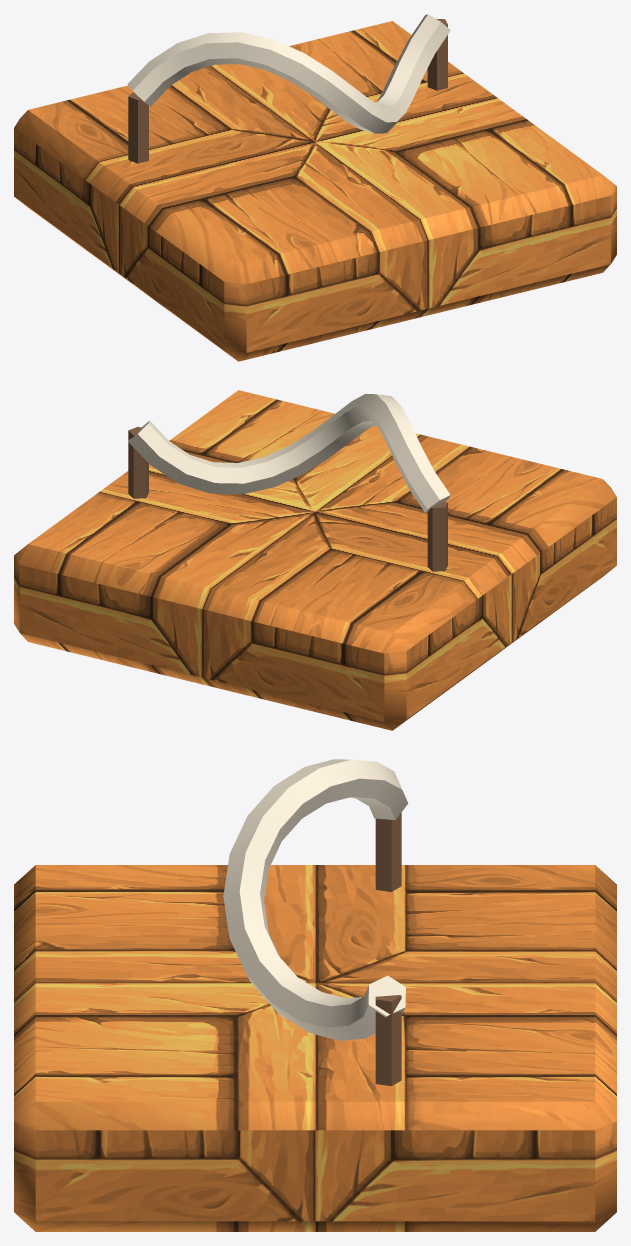
The model's file is tile_6.glb.
3 views of the same model, one above another, from view 1: azimuth 30°, elevation 25°; view 2: azimuth 150°, elevation 25°; view 3: azimuth 270°, elevation 25° (orthographic). The views are drawn at different scales.
Visible parts, largest first — view 1: tile_6; view 2: tile_6; view 3: tile_6.
Part boxes in pixels (x1,y1,x2,y2): tile_6: (14,14,616,361); tile_6: (14,390,616,730); tile_6: (14,759,616,1231).
Size of the model in its own units: 0.84 by 0.4589 by 0.84.
Materials: 3 (1 with a texture image).
